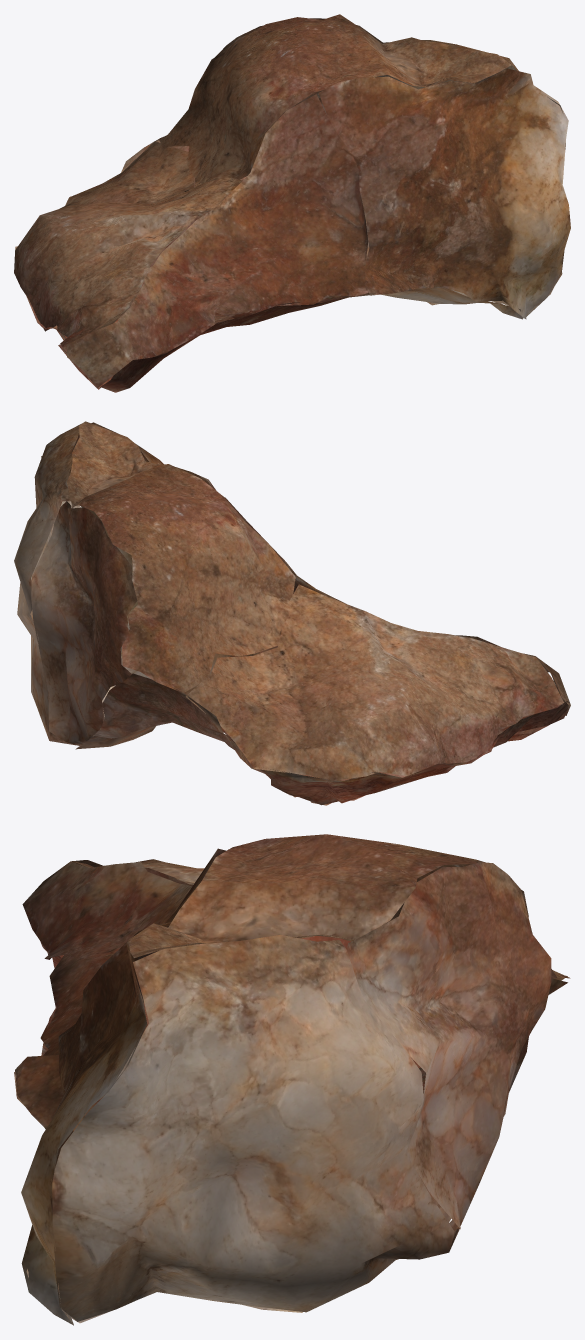
Rendered from stone_01.glb.
3 views of the same model, one above another, from view 1: azimuth 30°, elevation 25°; view 2: azimuth 150°, elevation 25°; view 3: azimuth 270°, elevation 25° (orthographic). The views are drawn at different scales.
Parts seen in each view (by area): view 1: stone_01; view 2: stone_01; view 3: stone_01.
Part boxes in pixels (x1,y1,x2,y2): stone_01: (14, 14, 570, 392); stone_01: (14, 421, 570, 805); stone_01: (14, 834, 570, 1325).
Size of the model in its own units: 0.1457 by 0.0717 by 0.0888.
1 material, 1 textured.
